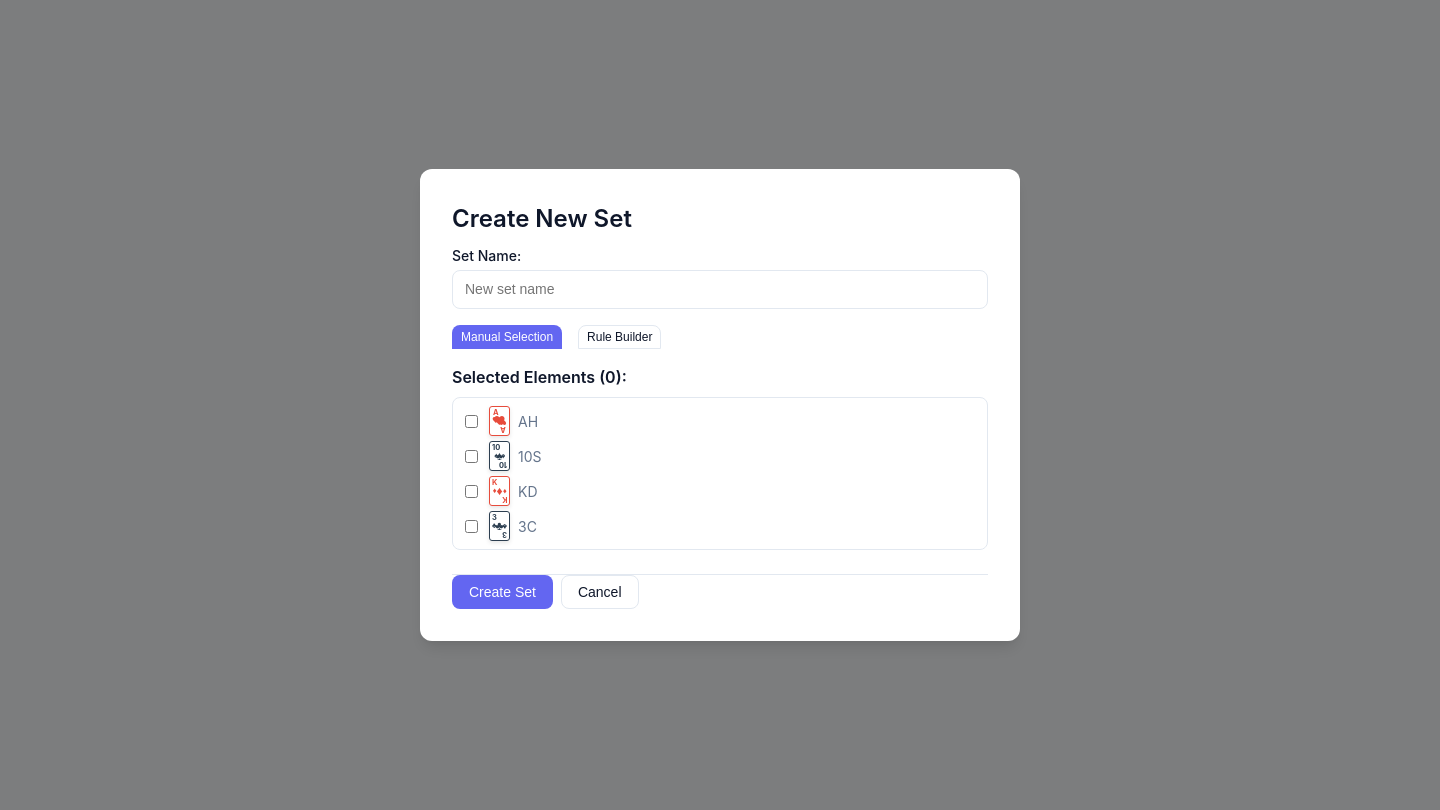
Test: SetEditModal Card Rules › applies SUIT rule correctly
What coordinates should you click on to do the following:
click the button "Rule Builder"
I would click on:
 (620, 337)
Its box is x1=578 y1=325 x2=662 y2=349.
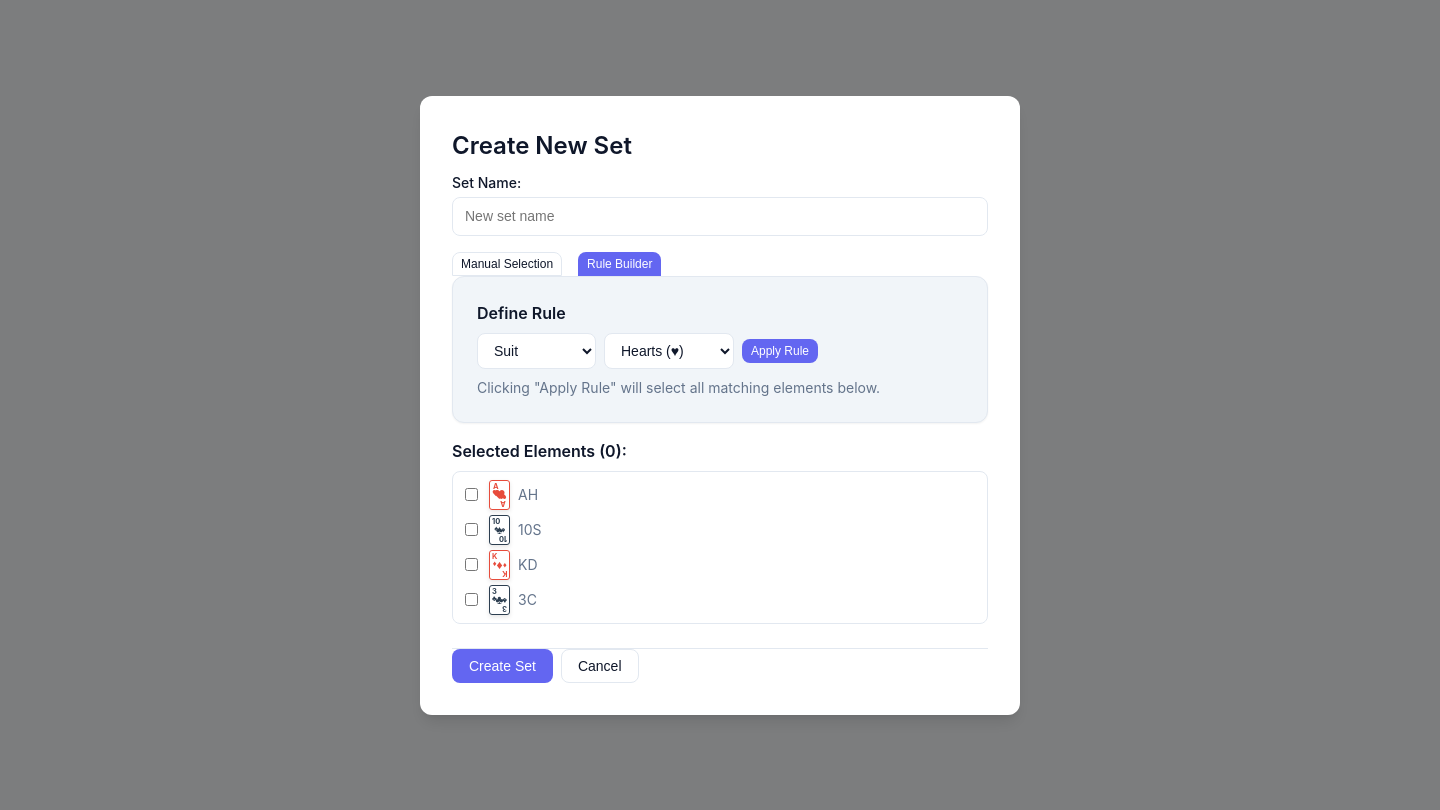
What coordinates should you click on to do the following:
click the button "Apply Rule"
I would click on:
 (780, 350)
Its box is x1=742 y1=338 x2=818 y2=362.
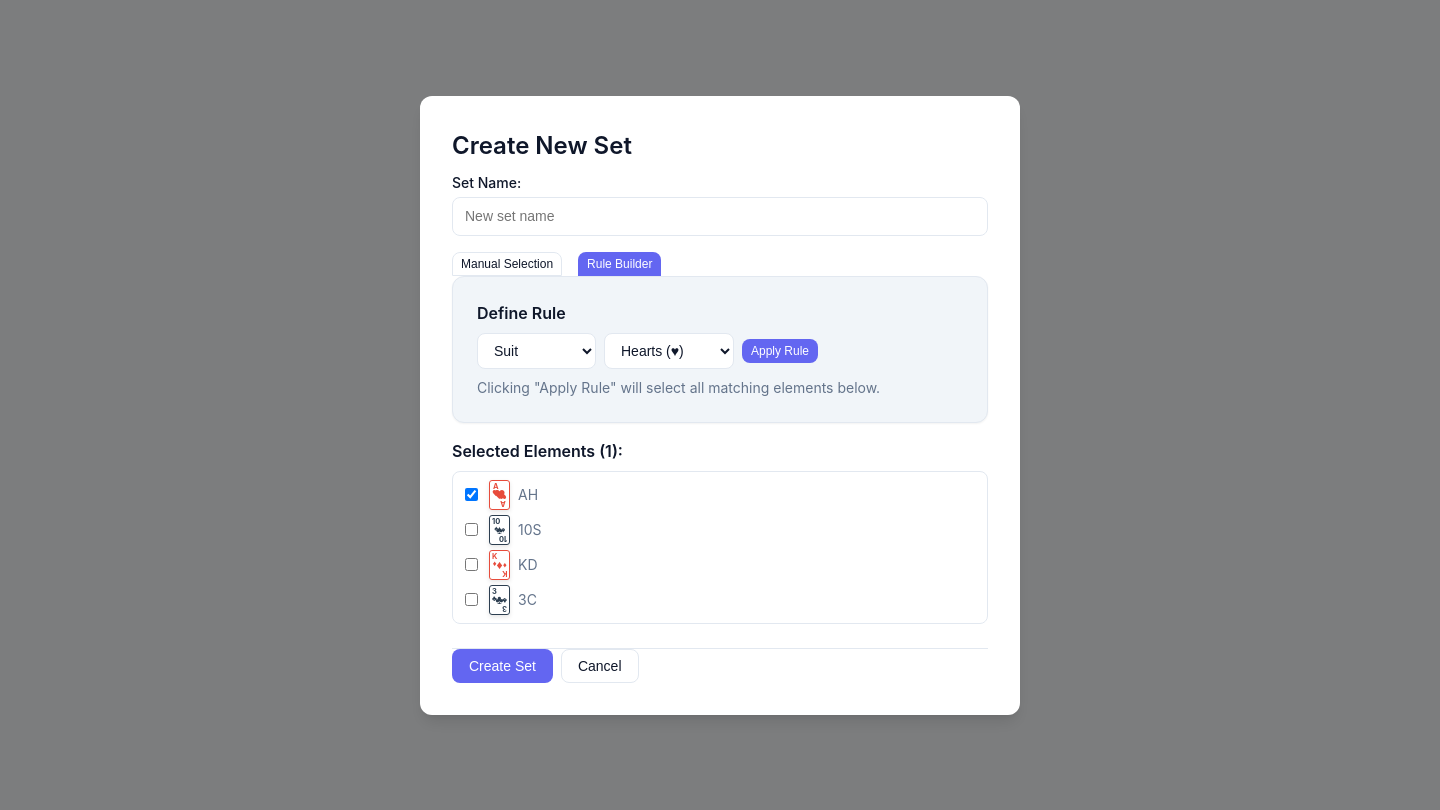
Expected: the checkbox labelled "10 ♠ ♠ 10 ♠ 10S" is not checked, x1=465 y1=523 x2=478 y2=536
Result: the checkbox labelled "A ♥ ♥ A ♥ AH" is checked at x1=465 y1=488 x2=478 y2=501
